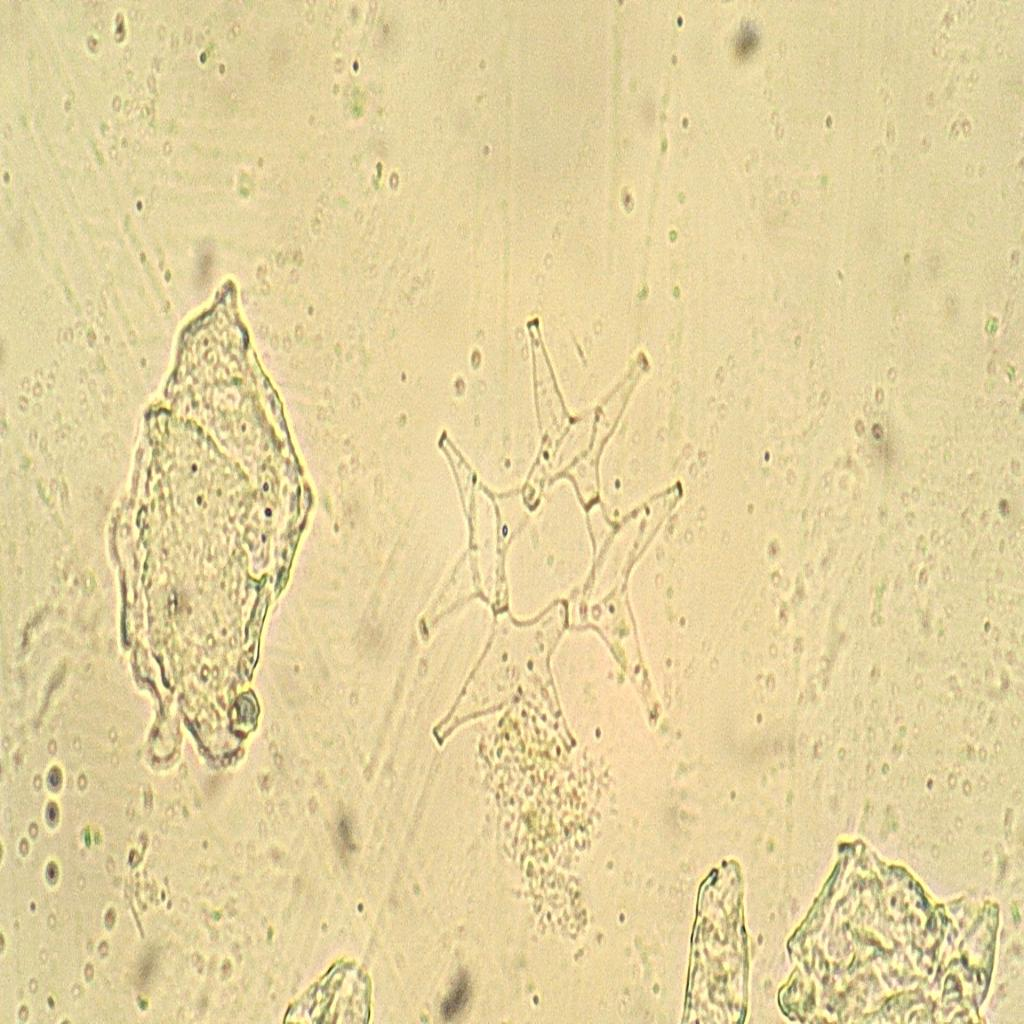Pediastrum_1F0: (402, 306, 697, 786)
